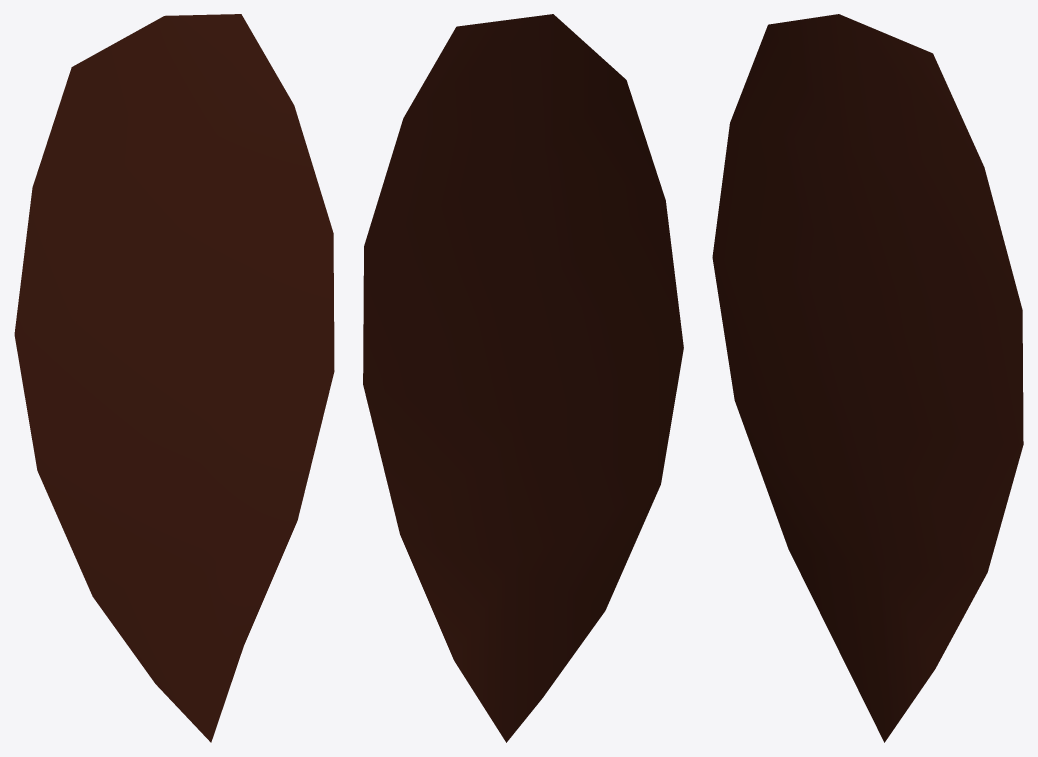
Rendered from hen_feather_flight_tertiary_010.obj.
3 renders of one model, left to right at view 1: azimuth 30°, elevation 25°; view 2: azimuth 150°, elevation 25°; view 3: azimuth 330°, elevation 25°, orthographic. The views are drawn at different scales.
Parts seen in each view (by area): view 1: feather_flight_tertiary_010; view 2: feather_flight_tertiary_010; view 3: feather_flight_tertiary_010.
Part boxes in pixels (x1,y1,x2,y2): feather_flight_tertiary_010: [14, 14, 334, 742]; feather_flight_tertiary_010: [363, 14, 683, 742]; feather_flight_tertiary_010: [712, 14, 1023, 742].
Bounding box in the file's own units: 0.00984 × 0.0217 × 0.000525.
